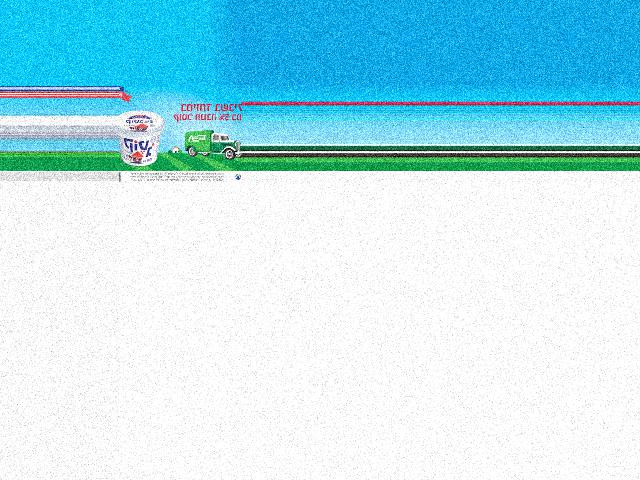cotage: (119, 110, 163, 166)
